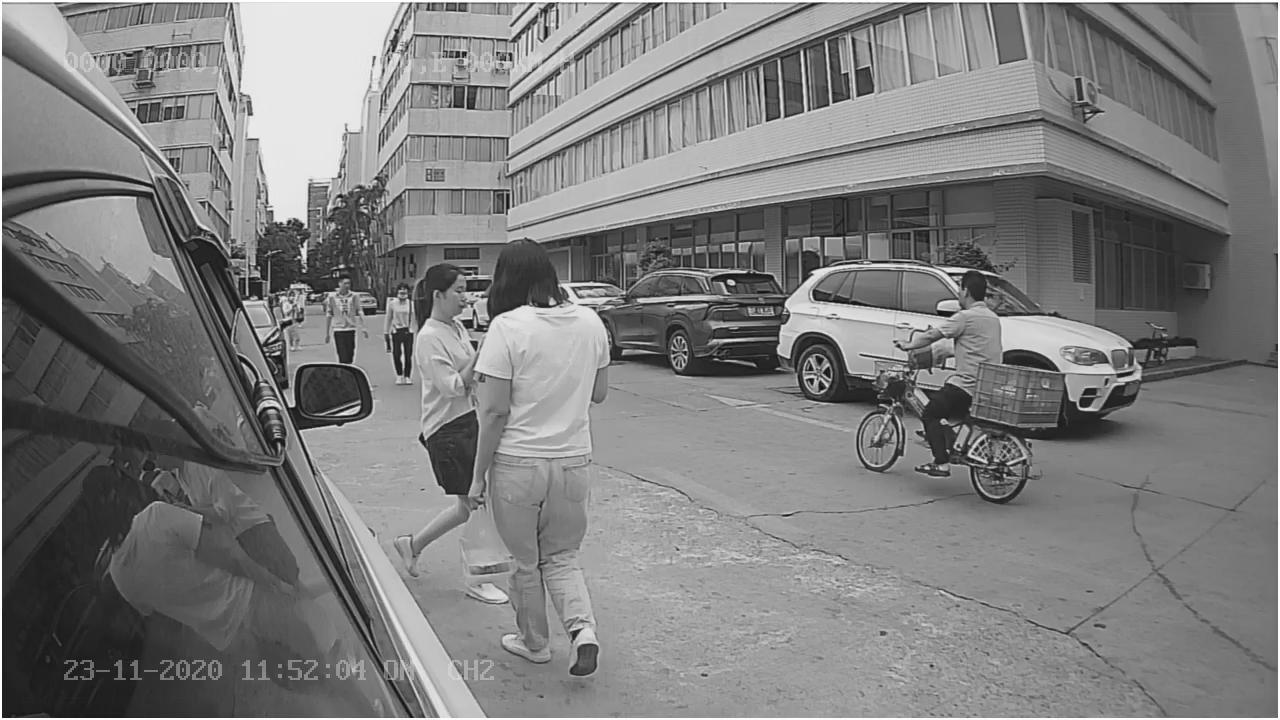person: (469, 240, 641, 670), (894, 259, 1003, 361)
